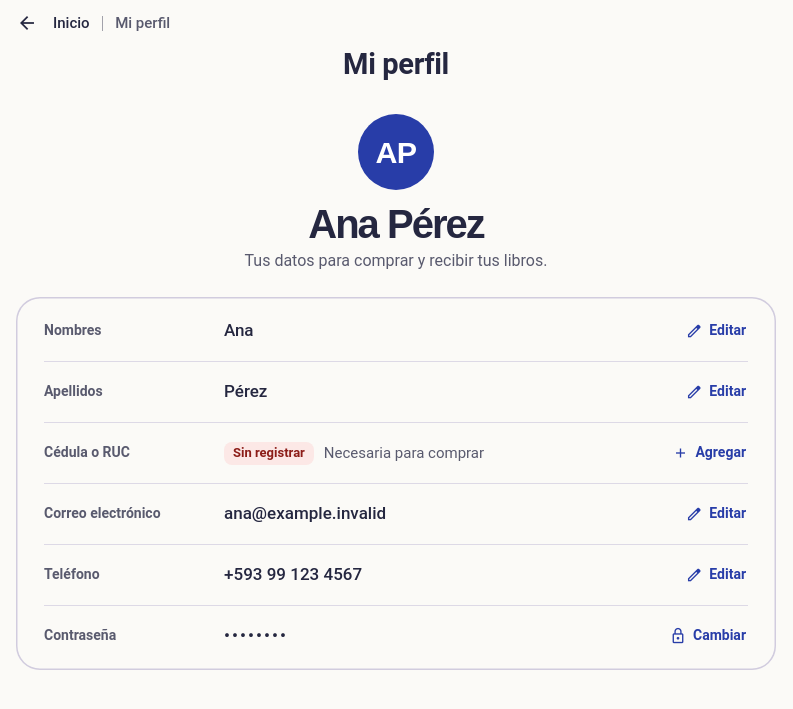
it: removes the pending-change notice when the user restores the original value
Click the button named "Editar nombres": (717, 331) [675,309,758,353]
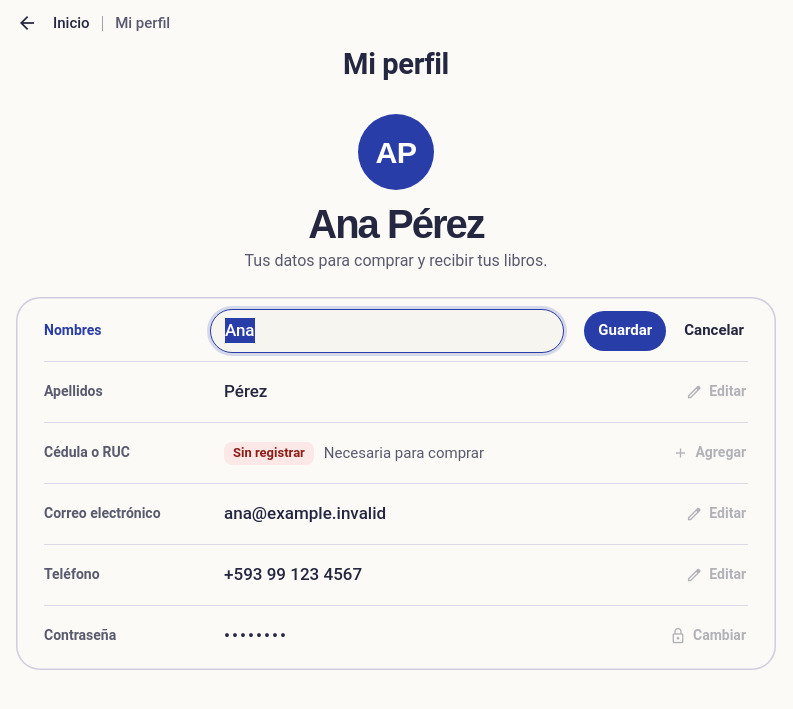
Replace the text in the field labelled "Nombres" with "Ana María": (387, 331) [210,309,564,353]
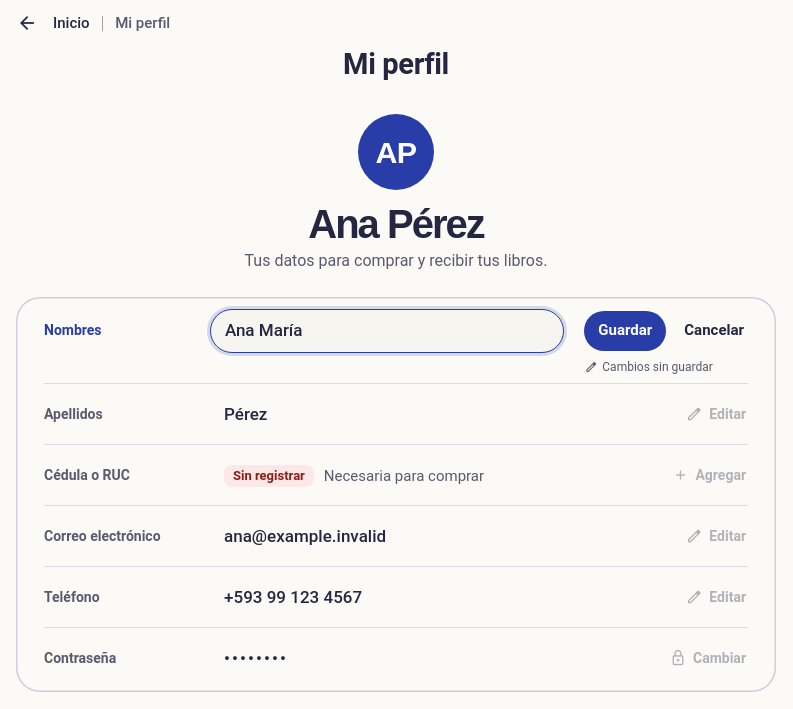
Now the message reads "Cambios sin guardar", box [602,360,713,374]
Replace the text in the field labelled "Nombres" with "Ana": (387, 331) [210,309,564,353]
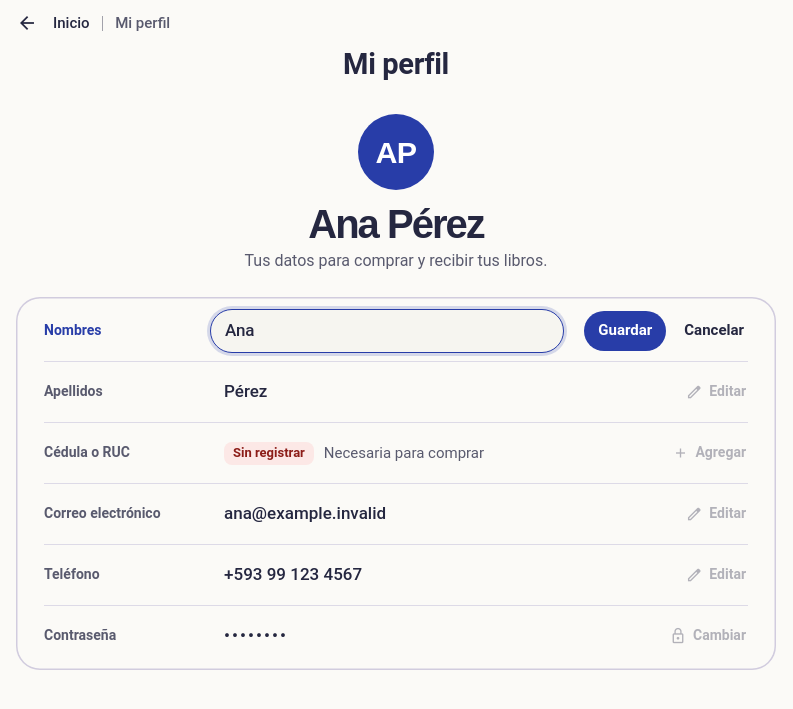
Now the message "Cambios sin guardar" is gone
